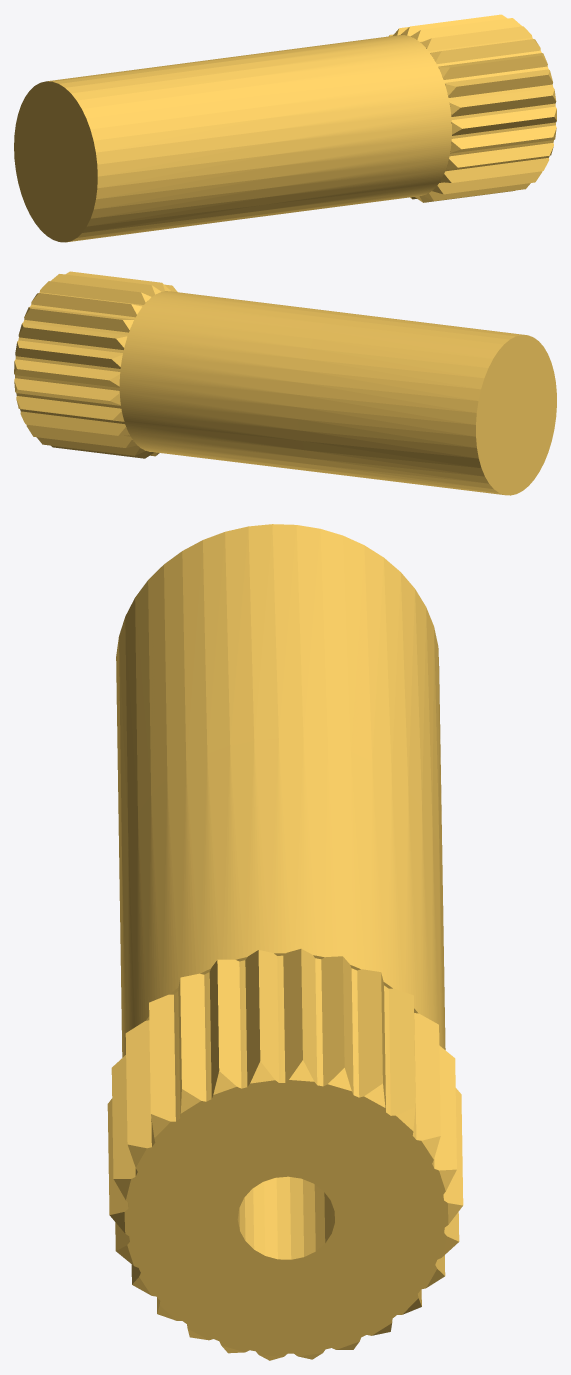
File: UMIRobot_UMIRobot_link_5_vis_1.dae
The picture shows the model from 3 angles, top to bottom: view 1: azimuth 30°, elevation 25°; view 2: azimuth 150°, elevation 25°; view 3: azimuth 270°, elevation 25°; orthographic projection. The views are drawn at different scales.
Visible parts, largest first — view 1: node; view 2: node; view 3: node.
Boxes of the visible parts, x1,y1,x2,y2 form: node: (14, 14, 556, 242); node: (14, 271, 556, 495); node: (107, 524, 463, 1360).
Size of the model in its own units: 0.018 by 0.00742 by 0.00583.
